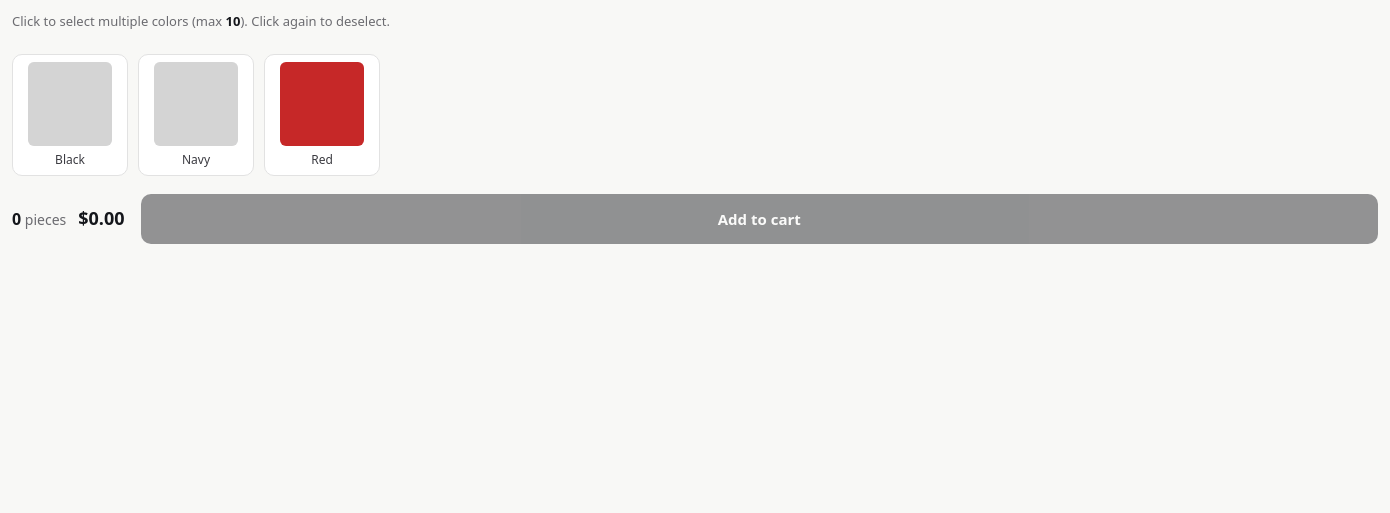
Test: adding to the cart › names the minimum order while there is less than it
Click the button "Navy": (196, 114) [138, 54, 254, 176]
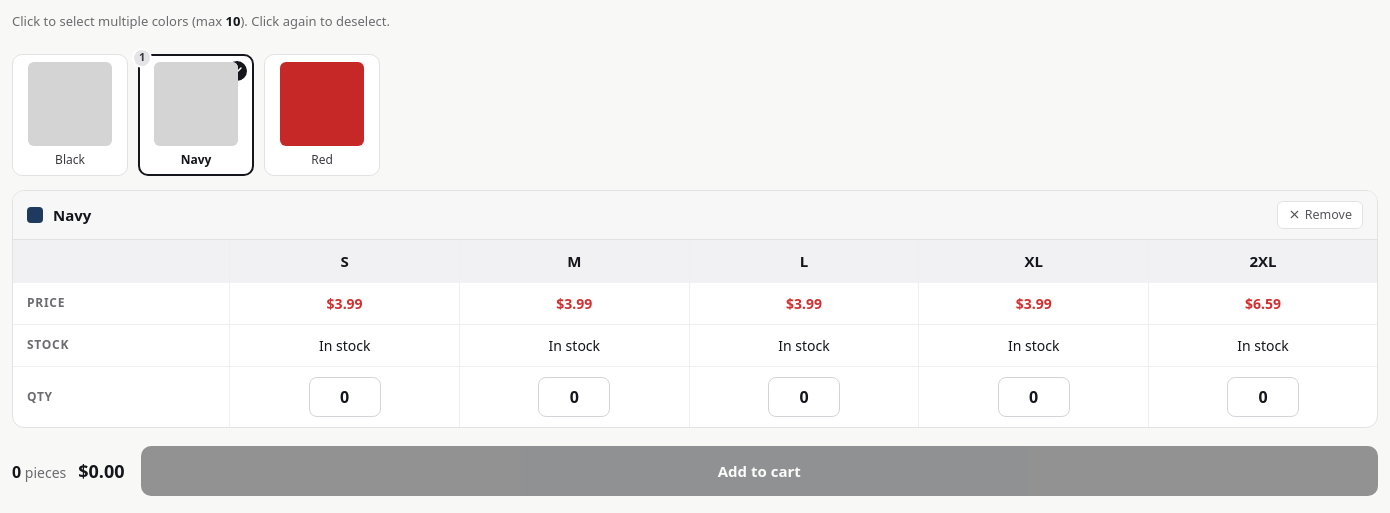
Replace the text in the field named "Navy, M: how many" with "6": (574, 397) [538, 377, 610, 417]
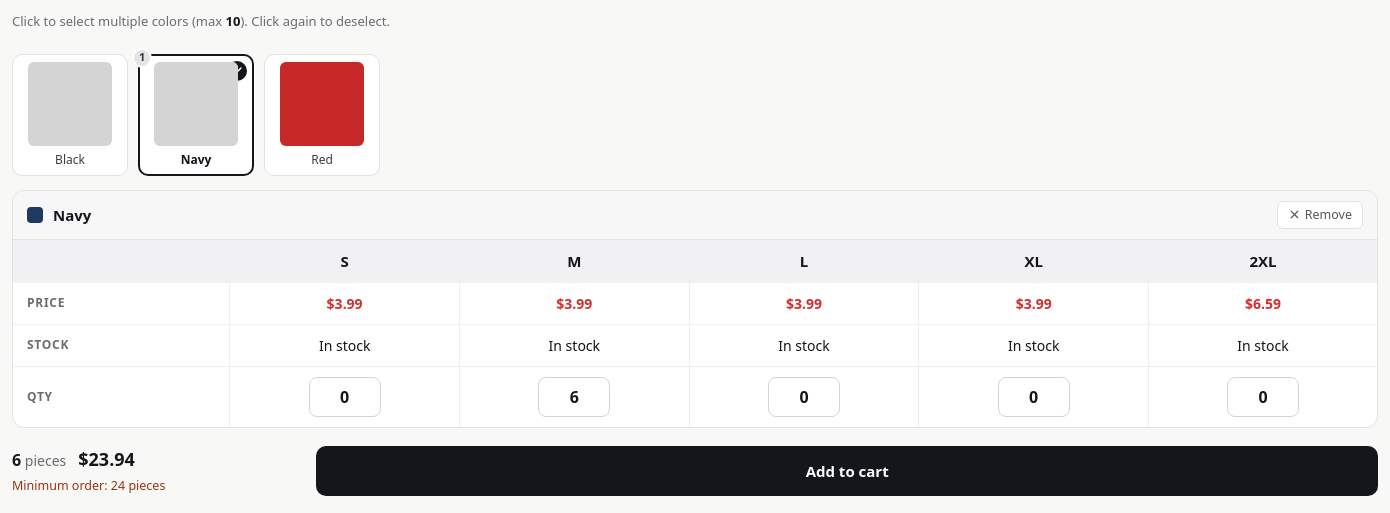
Check: the text "Minimum order: 24 pieces" is shown, box [12, 477, 165, 494]
Replace the text in the field named "Navy, M: how many" with "30": (574, 397) [538, 377, 610, 417]
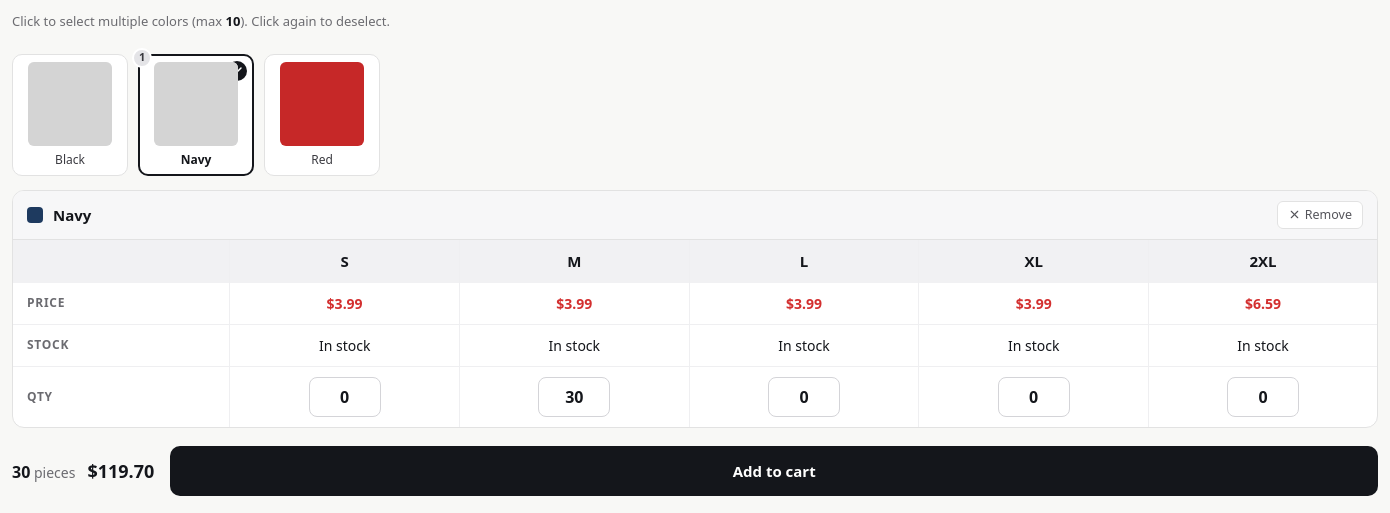
Check: the text "Minimum order: 24 pieces" is gone
